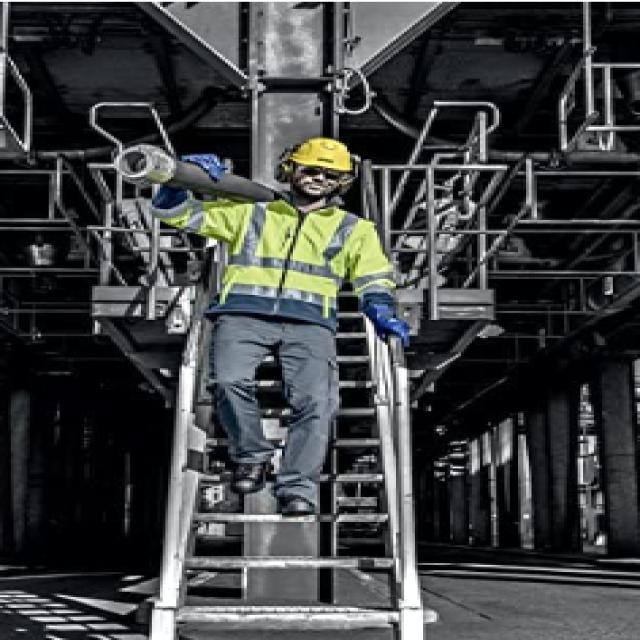hard_hat: (280, 135, 362, 203)
shoes: (223, 439, 337, 519)
vest: (205, 195, 367, 326)
